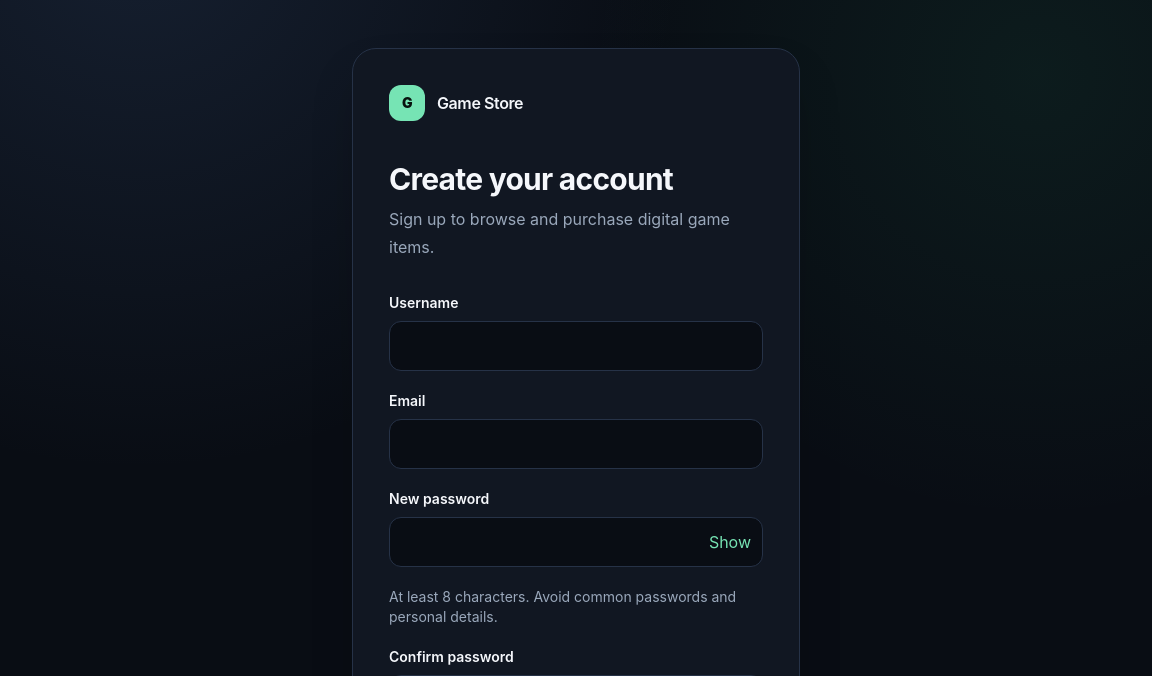
Test: validates password confirmation without sending a request
Type "customer" into the field labelled "Username" at [576, 346], box left=389, top=321, right=763, bottom=371
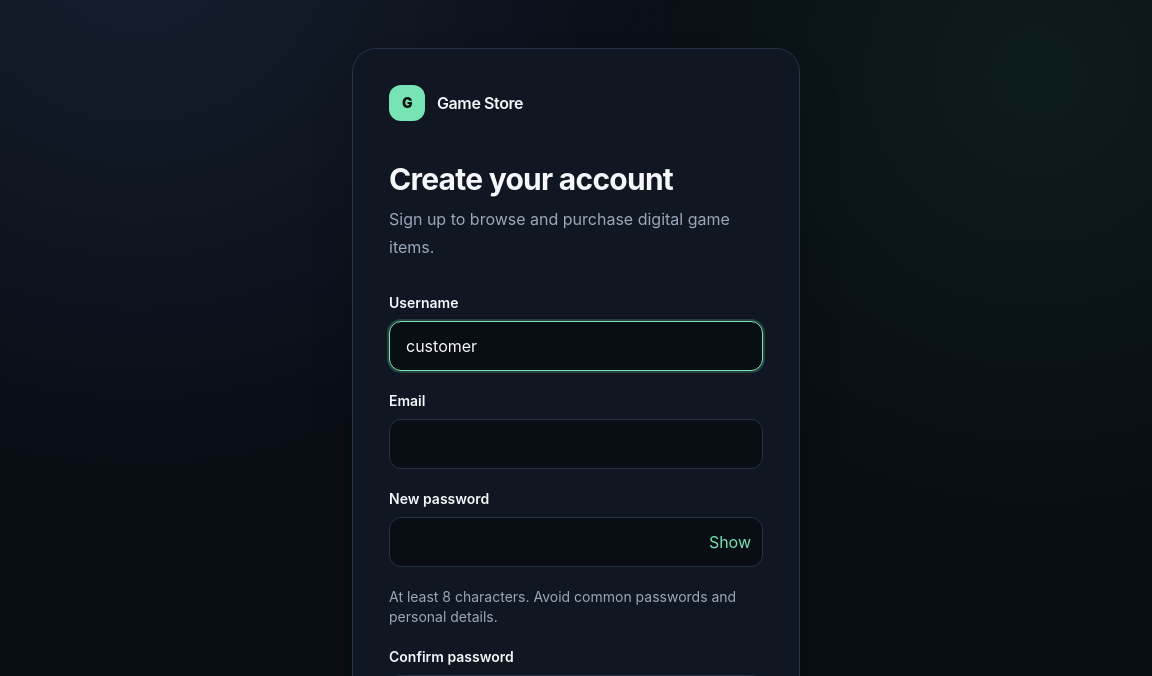
Type "customer@example.com" into the field labelled "Email" at [576, 444], box left=389, top=419, right=763, bottom=469
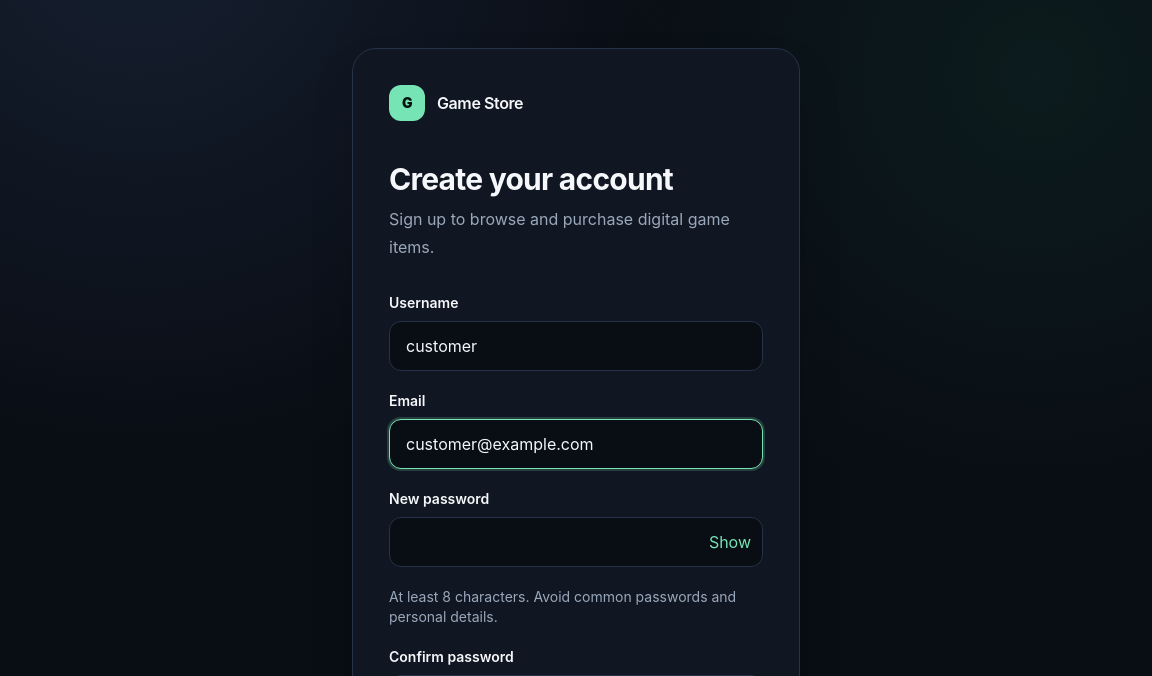
Type "River!lantern-5839" into the password field labelled "New password" at [576, 542], box left=389, top=517, right=763, bottom=567
(page scrolled)
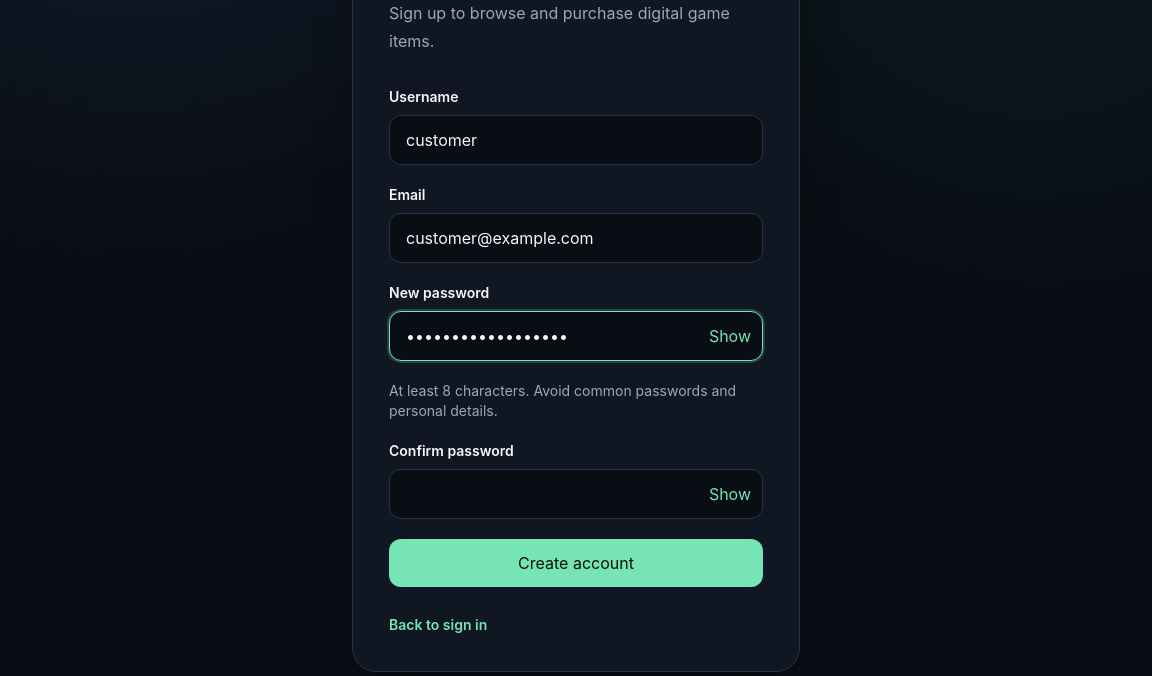
Type "different" into the password field labelled "Confirm password" at [576, 494], box left=389, top=469, right=763, bottom=519
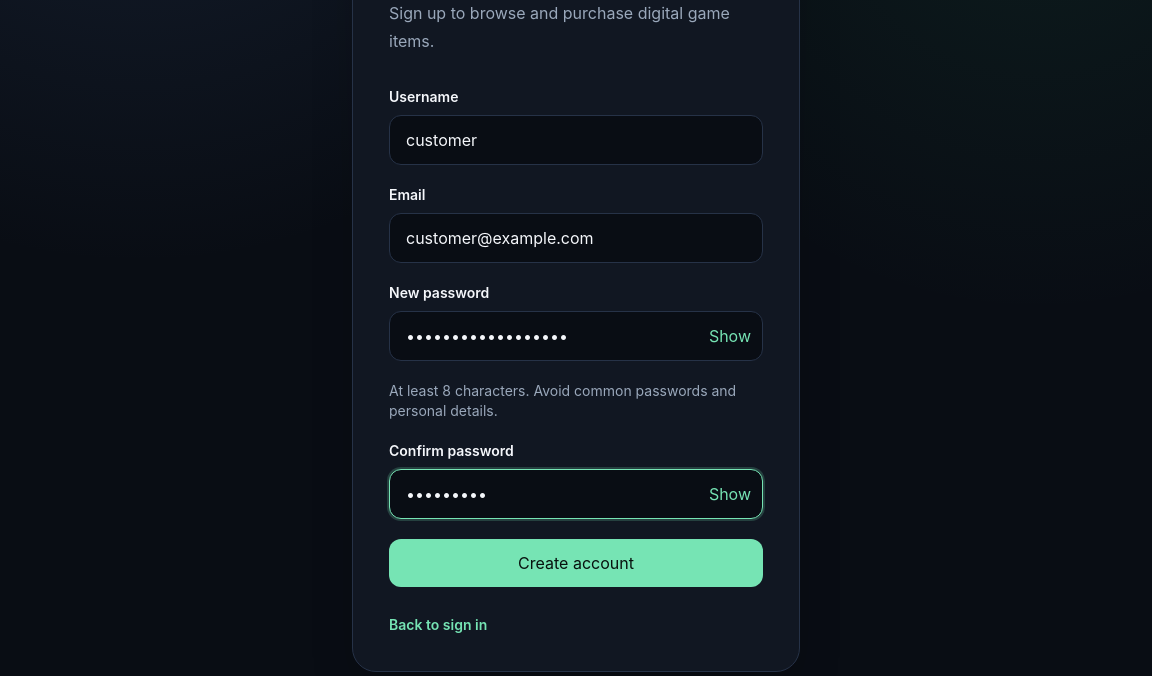
Click the button "Create account" at [576, 563], box left=389, top=539, right=763, bottom=587
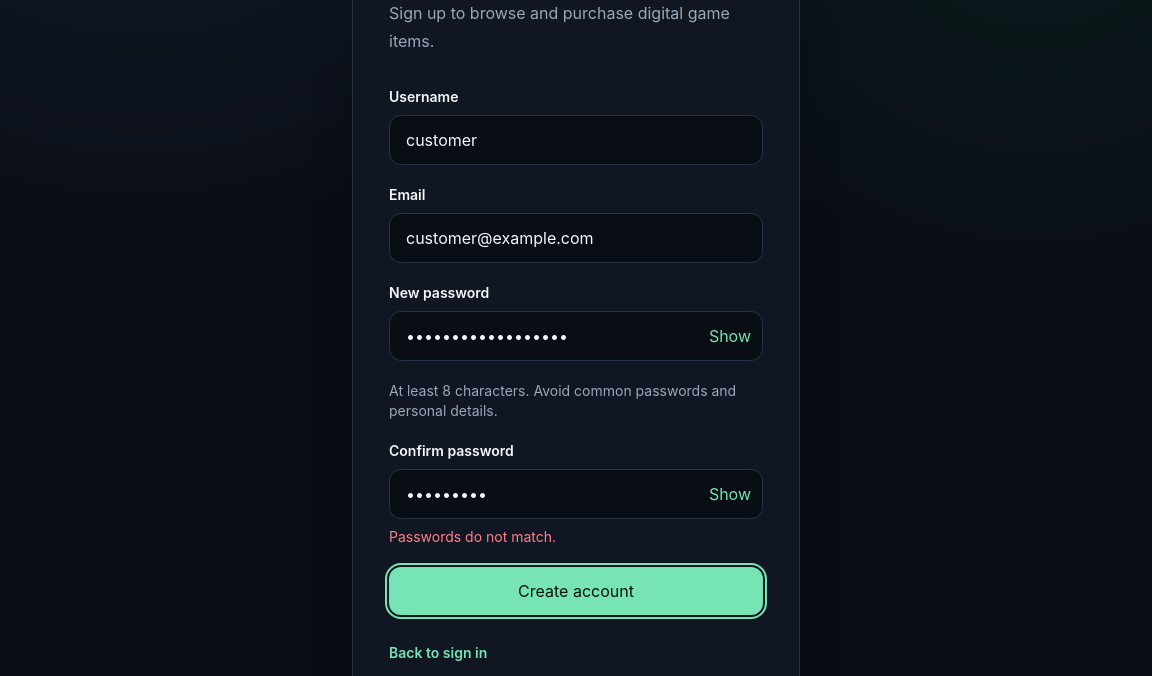
Expected: the text "Passwords do not match." is shown, left=389, top=528, right=556, bottom=545
